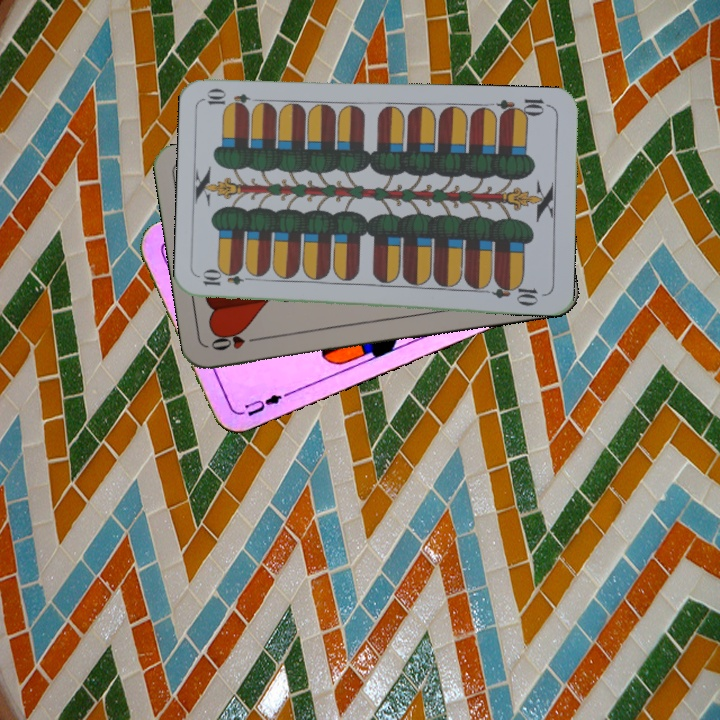E10: (494, 94, 553, 120), (199, 270, 258, 288)
EU: (240, 388, 290, 419)
HO: (207, 329, 265, 353)
